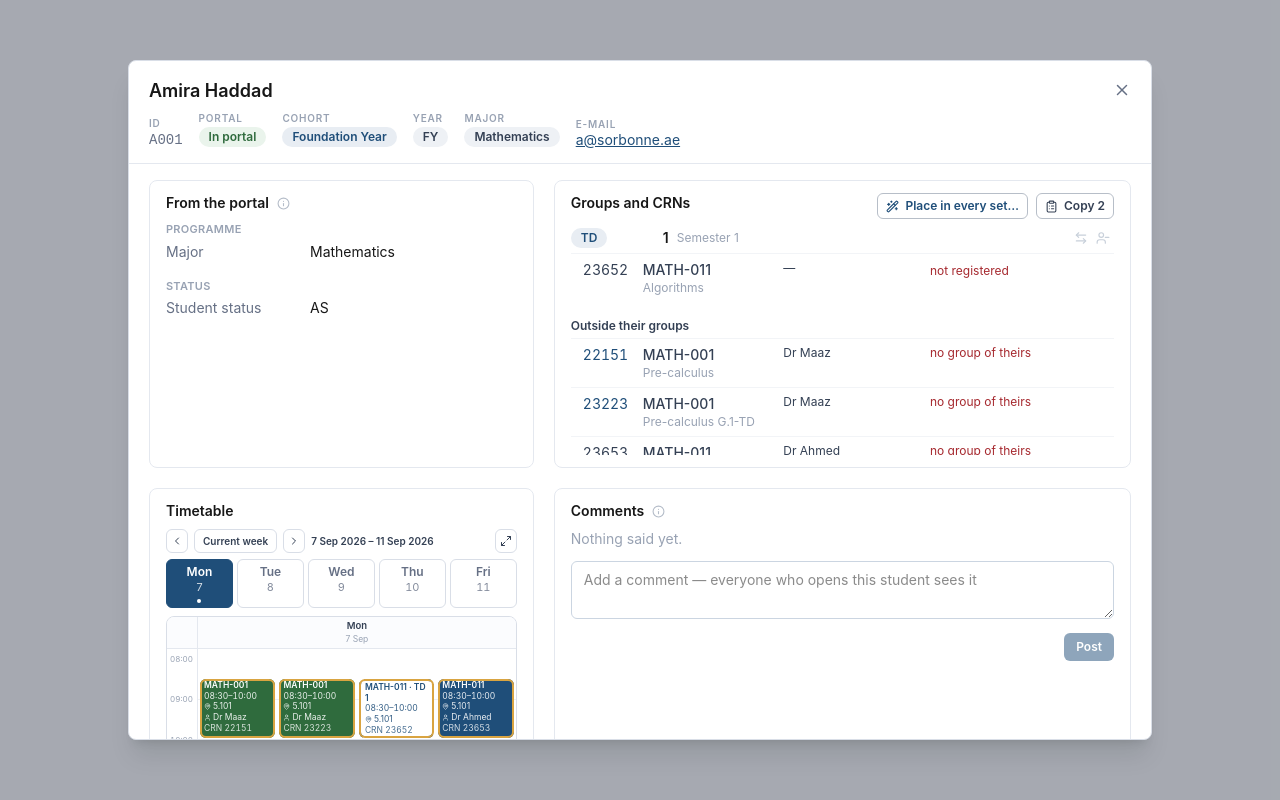
Test case: placing one student from their own record › offers to propose a group in every set, which is the question this surface is about
Expected: the table labelled "TD 1" is shown, [571,227,1114,302]
Click the button "Place in every set…" at (953, 206), box [877,193,1028,219]
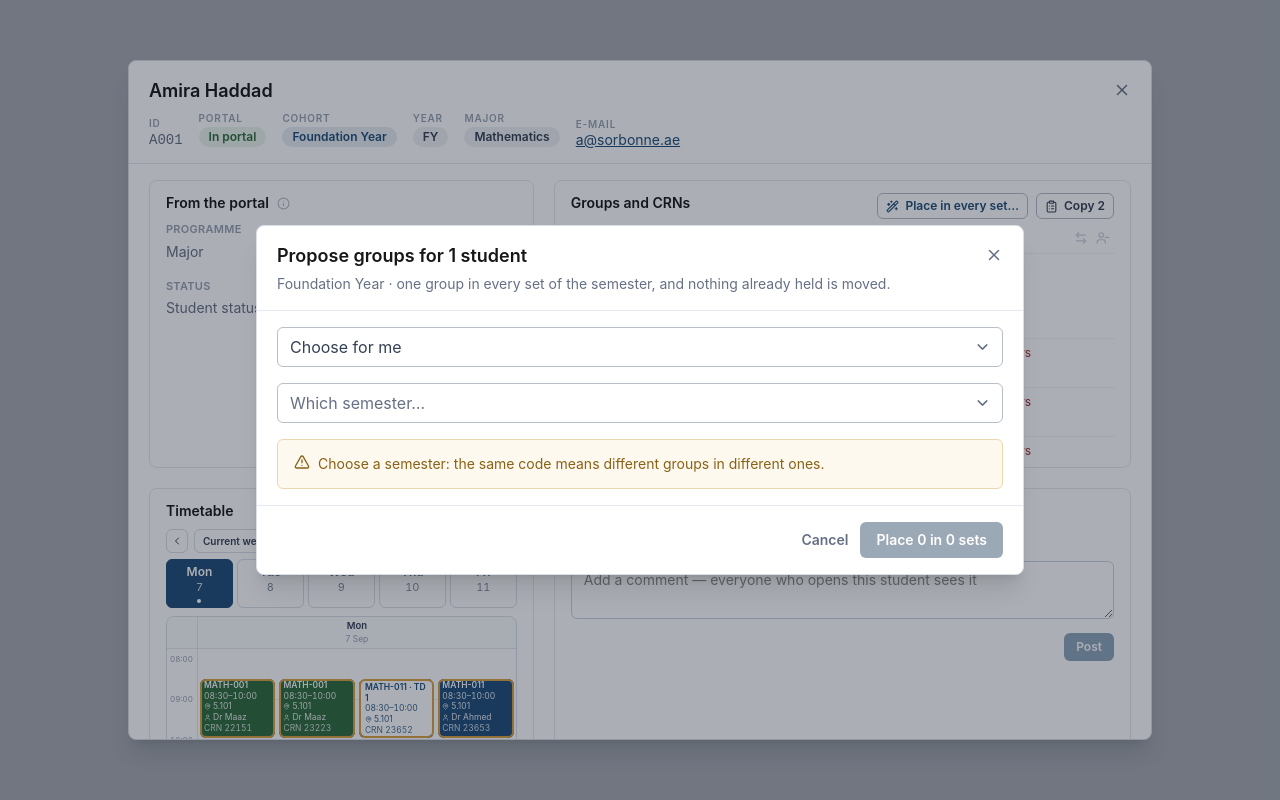
Expected: the heading "Propose groups for 1 student" is shown, [277,245,527,266]
